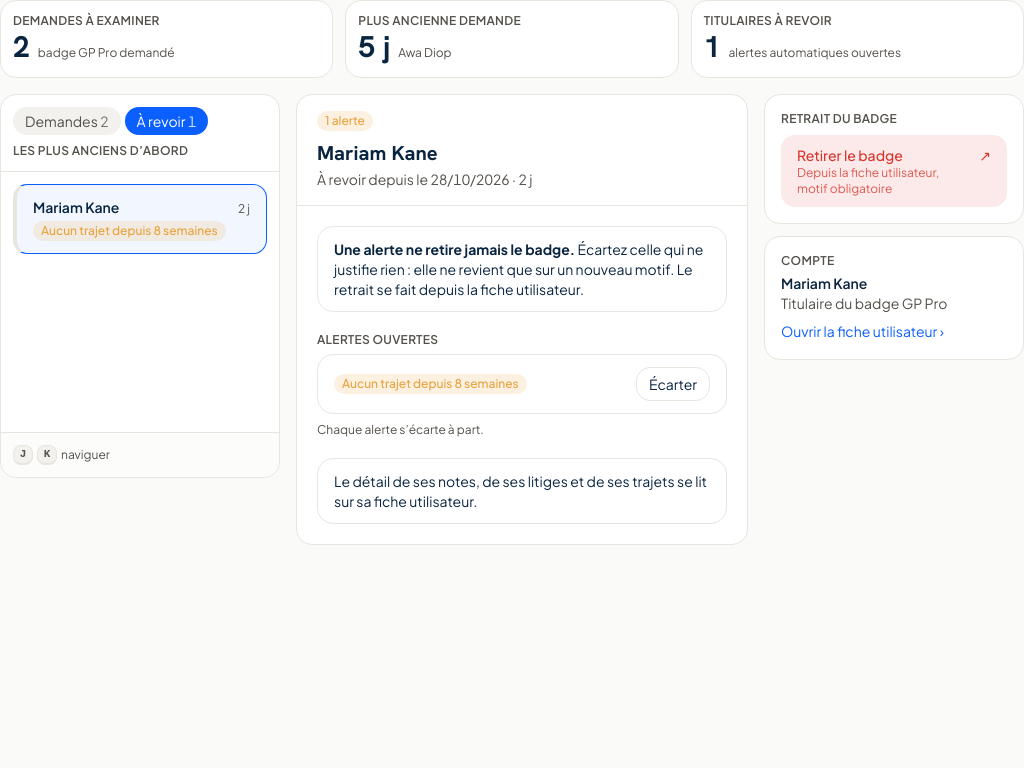
Test case: /gp-pro › dernière alerte de la dernière personne : plus rien d’ouvert
Click the button with test id "gp-pro-dismiss-f3" at (673,384), box x1=636 y1=367 x2=710 y2=401
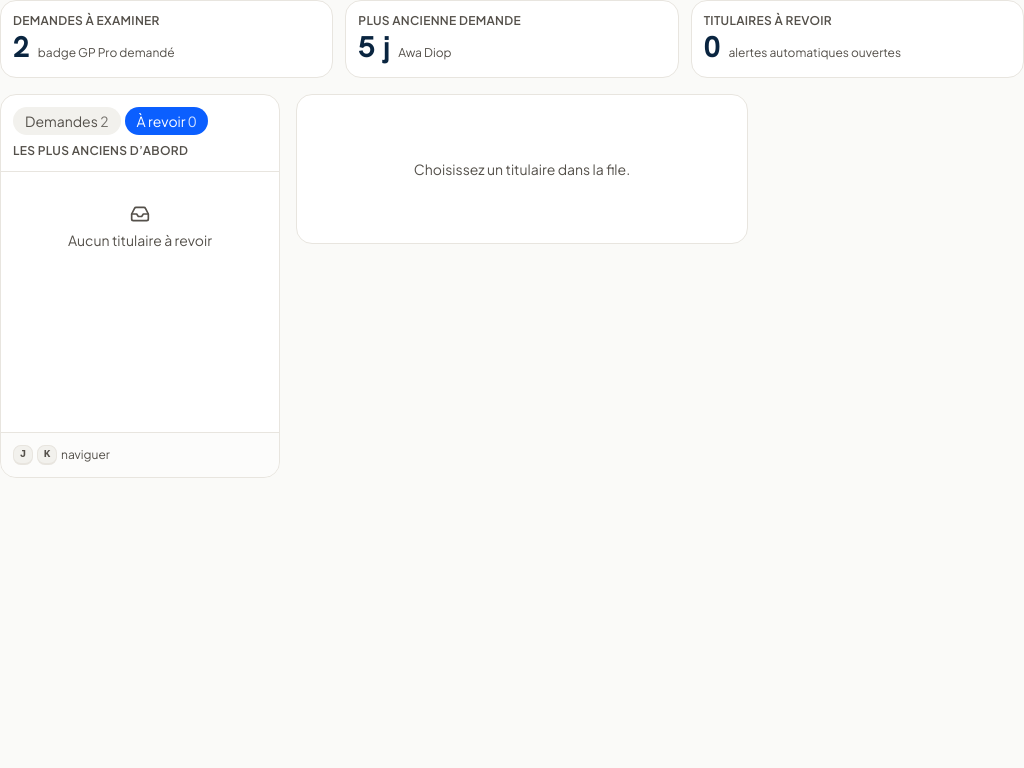
Result: the text "Choisissez un titulaire dans la file." is shown at x1=296 y1=94 x2=748 y2=244
Result: the element with test id "gp-pro-review-empty" is shown at x1=68 y1=204 x2=212 y2=249
